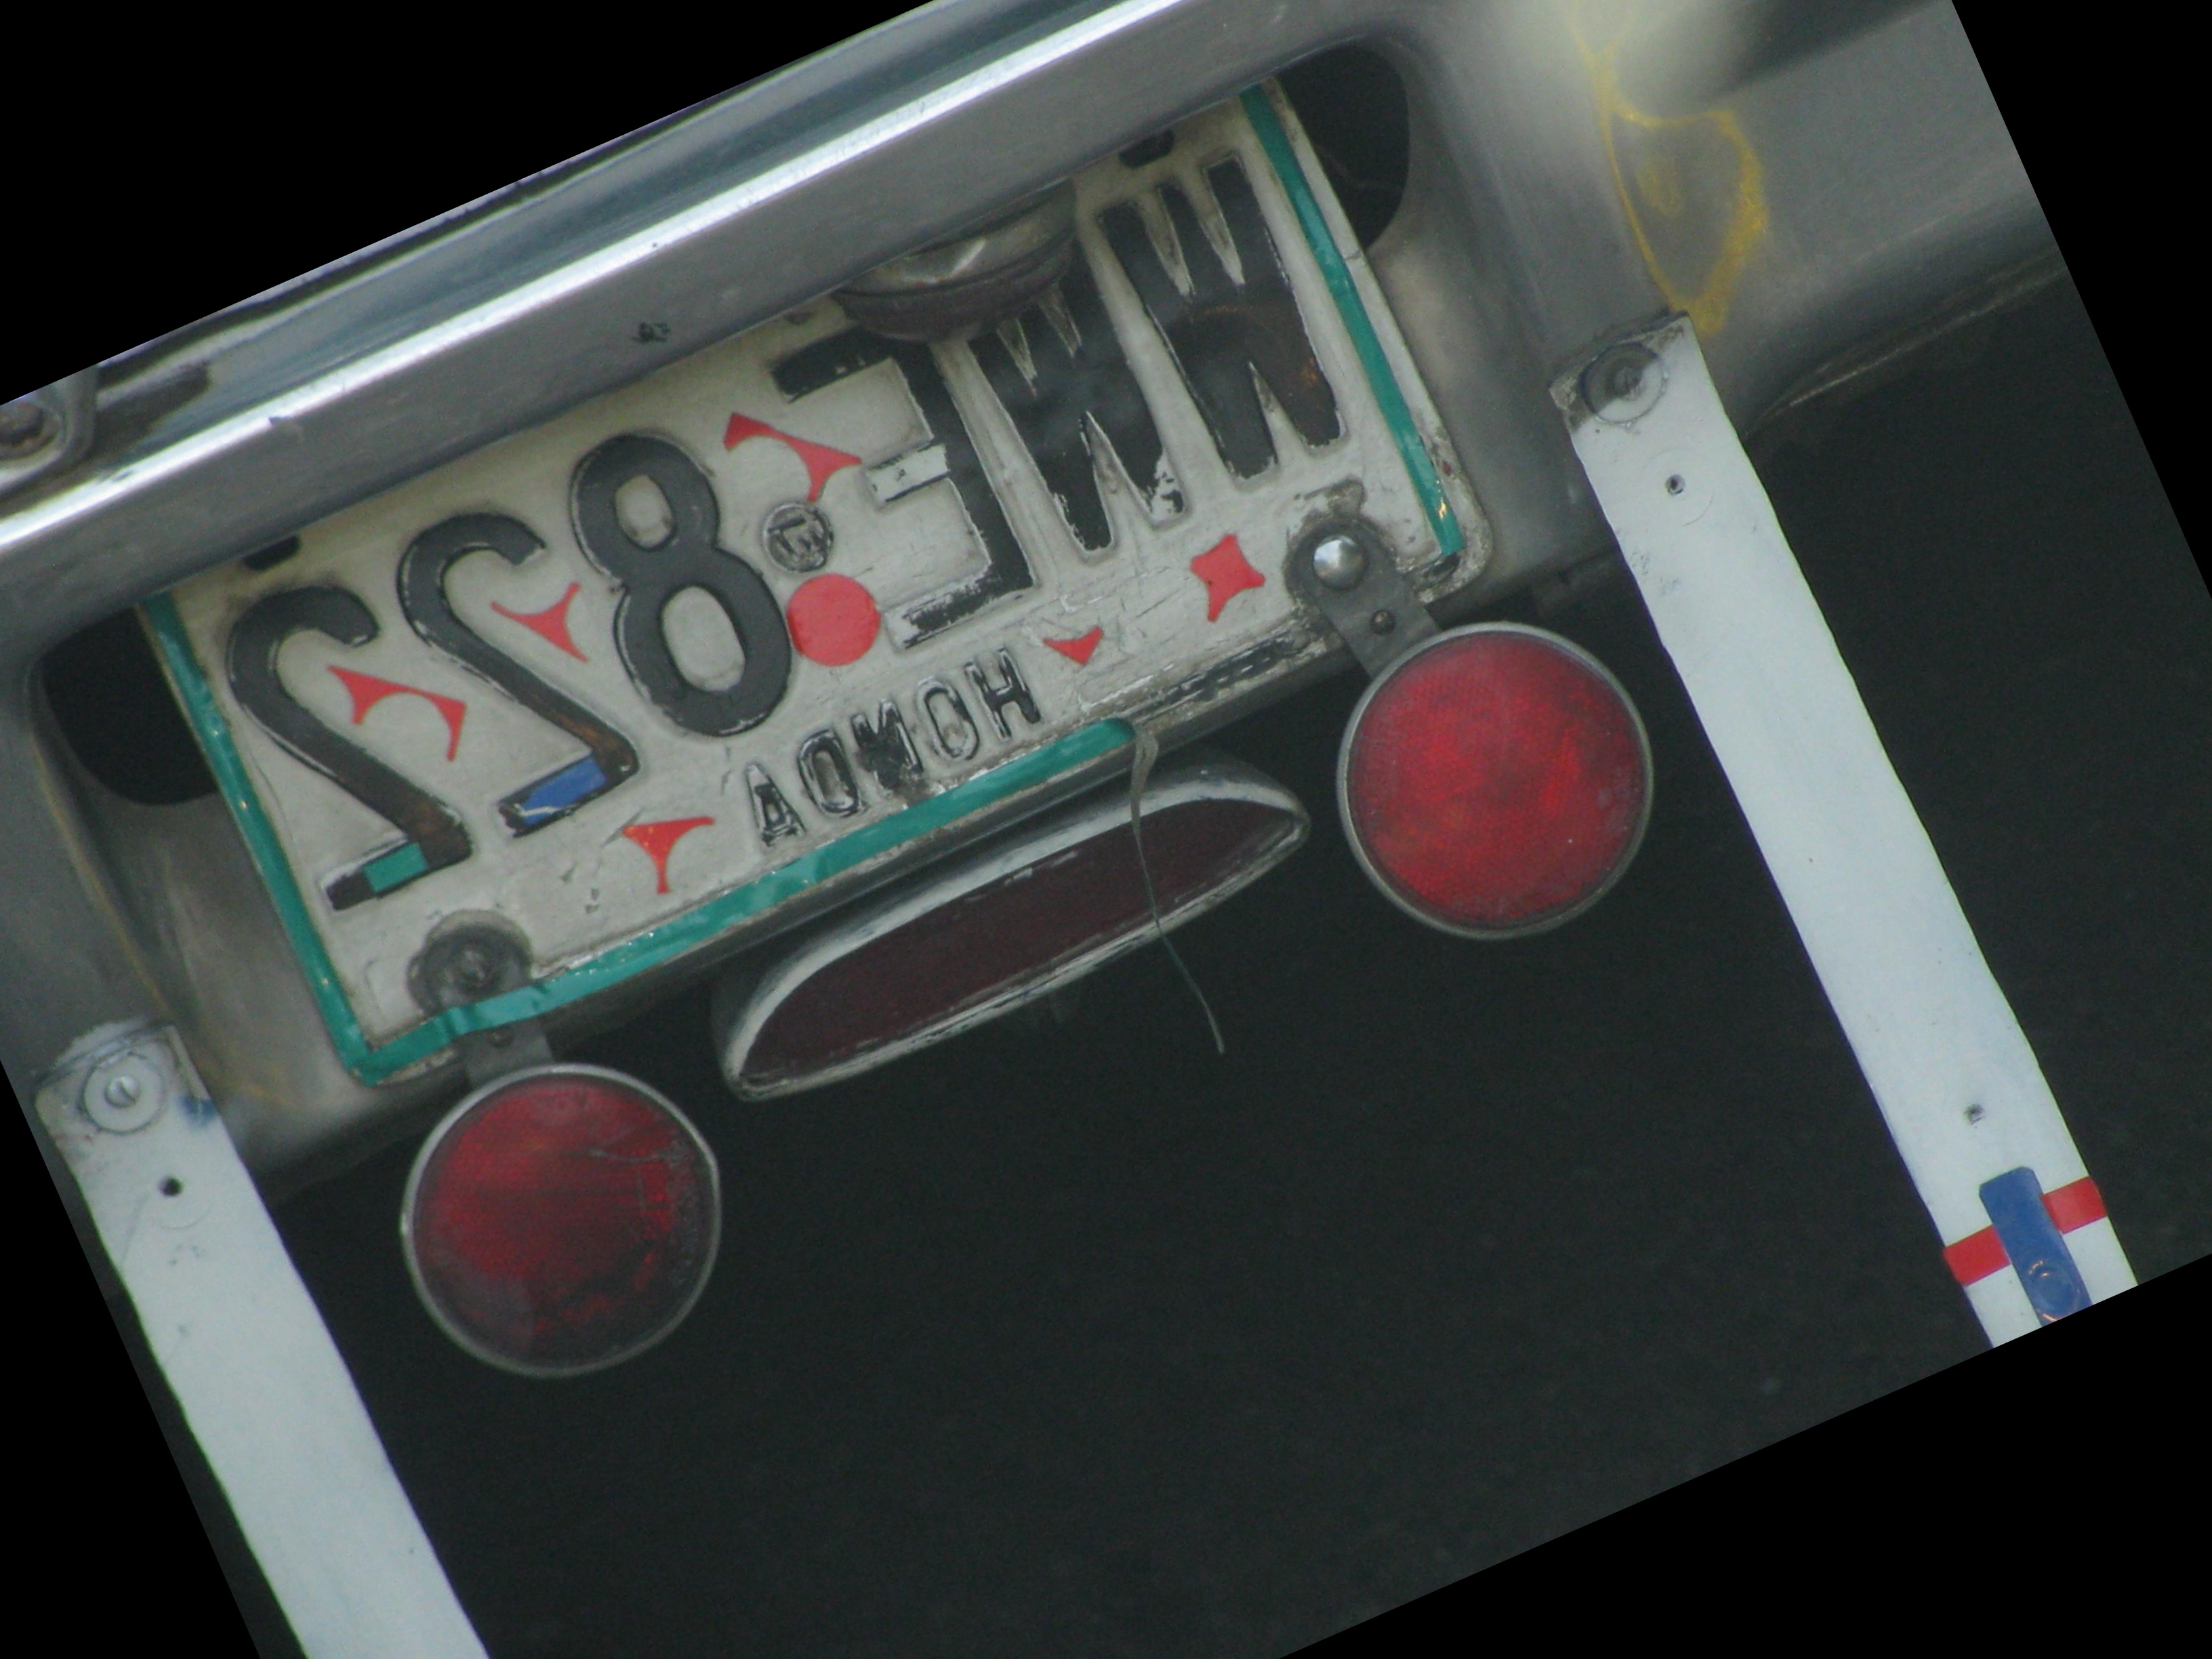placas: (94, 26, 1543, 1130)
